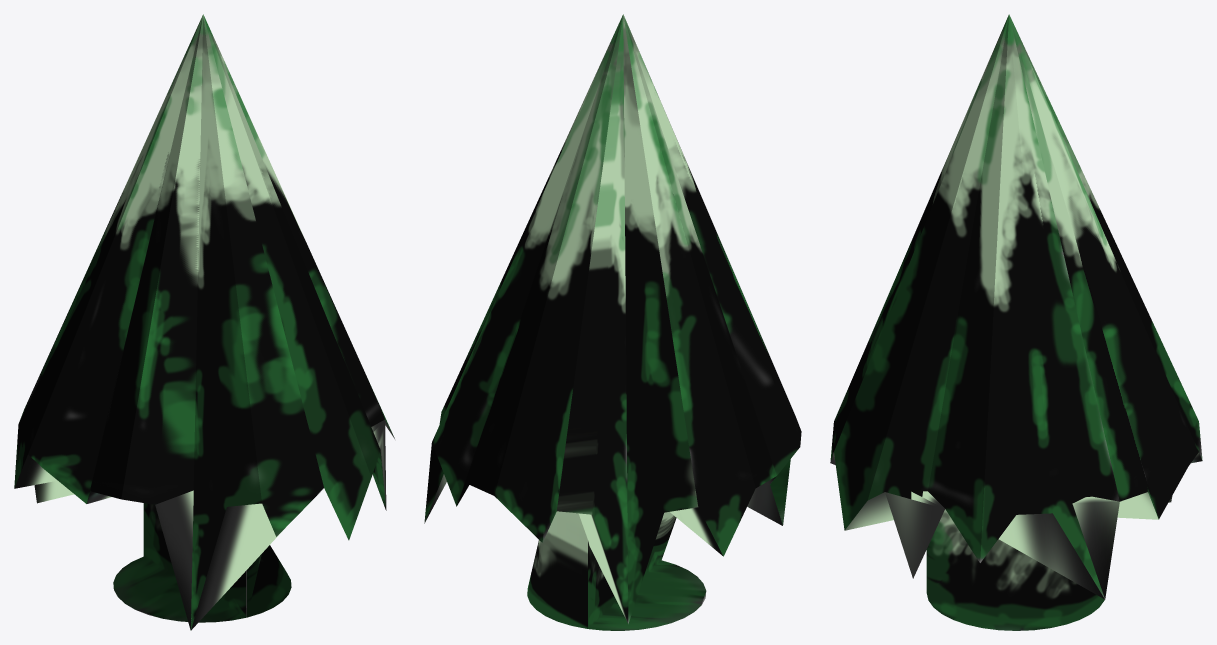
The model's file is cogumelo.fbx.
The picture shows the model from 3 angles, left to right: view 1: azimuth 30°, elevation 25°; view 2: azimuth 150°, elevation 25°; view 3: azimuth 270°, elevation 25°; orthographic projection.
Visible parts, largest first — view 1: Cilindro; view 2: Cilindro; view 3: Cilindro.
Boxes of the visible parts, x1=… form: Cilindro: x1=14, y1=14, x2=394, y2=630; Cilindro: x1=424, y1=14, x2=801, y2=630; Cilindro: x1=830, y1=14, x2=1202, y2=630.
Bounding box in the file's own units: 433 × 710 × 414.
